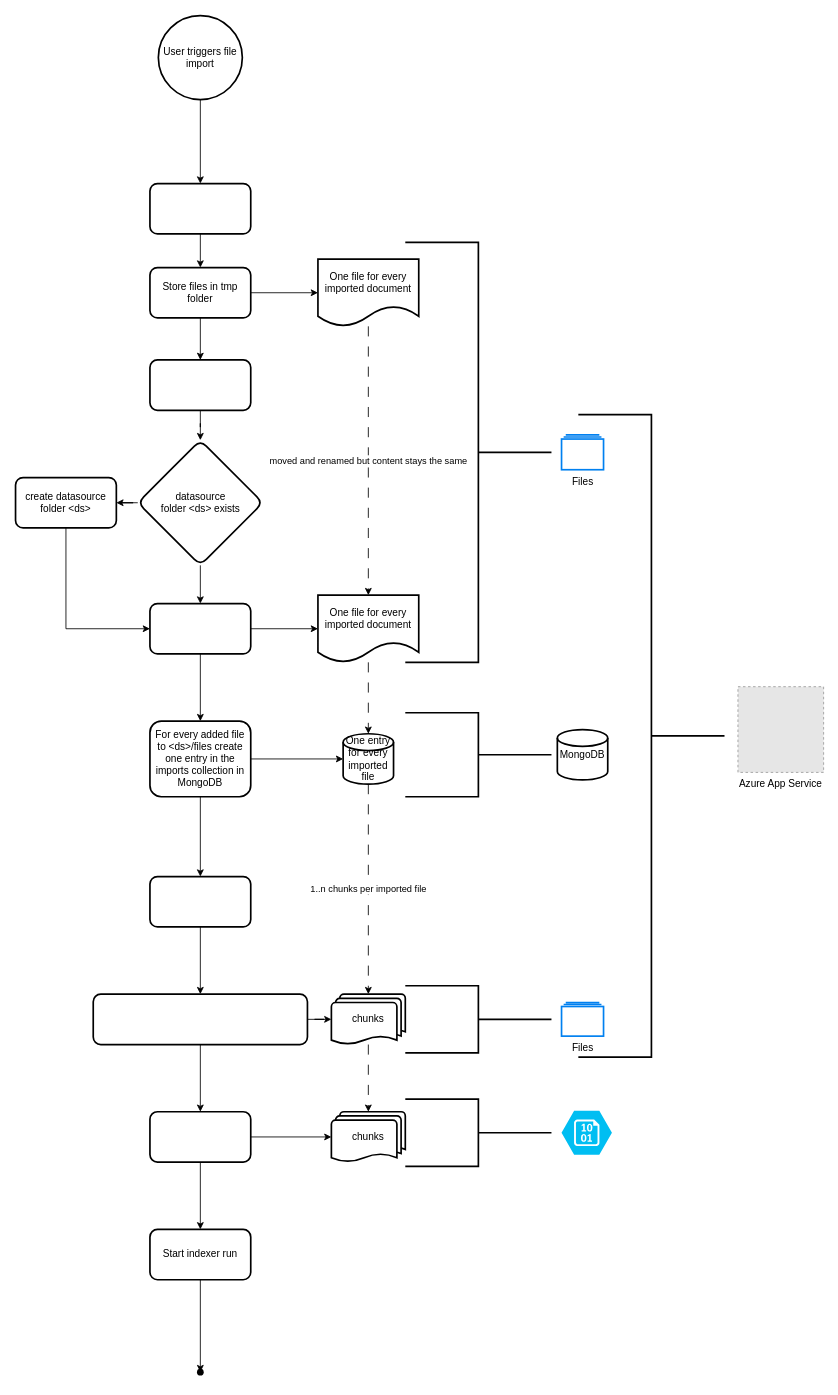
The diagram is 838 pixels wide and 1395 high, and some of its shapes have lost their labels. Grey dashed boxes stand in for pictures. Here are the shapes that lost their labels. From the top down, the box of each, then its label:
(149, 182, 251, 234): Receive all files on server
(149, 359, 251, 411): Retrieve datasource <ds> from customer
(149, 602, 251, 654): Move files to <ds>/files
(149, 875, 251, 927): Chunk newly uploaded files
(92, 993, 308, 1045): Save created chunk files at <ds>/chunks/<filename>/chunk_<chunkpage>
(149, 1110, 251, 1163): Upload chunk files to Azure container storage
(561, 1110, 612, 1154): Blob
